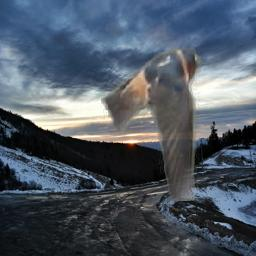Swallow: (101, 41, 201, 201)
